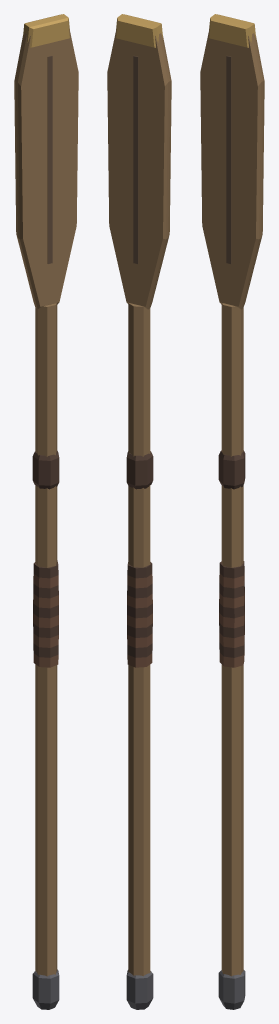
File: oar_staff.glb
3 renders of one model, left to right at view 1: azimuth 30°, elevation 25°; view 2: azimuth 150°, elevation 25°; view 3: azimuth 330°, elevation 25°, orthographic.
Parts seen in each view (by area): view 1: oar_staff; view 2: oar_staff; view 3: oar_staff.
Boxes of the visible parts, <box> form: oar_staff: <box>14,14,78,1009</box>; oar_staff: <box>107,14,171,1009</box>; oar_staff: <box>200,14,264,1009</box>.
Bounding box in the file's own units: 0.15 × 2.38 × 0.0585.
